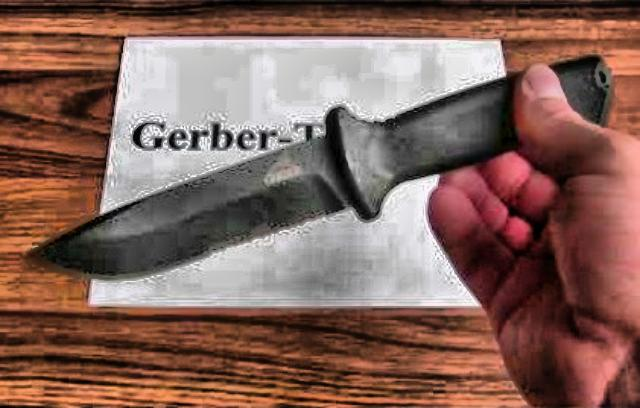knife: (9, 64, 559, 302)
